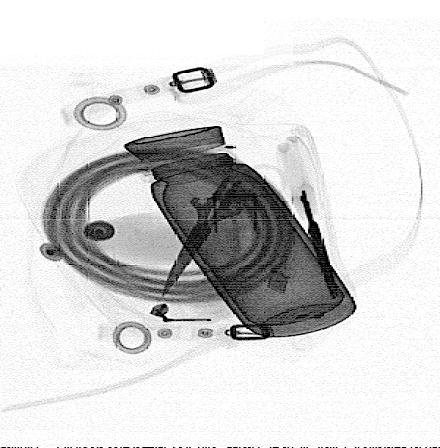Scissors: (160, 154, 286, 297), (279, 133, 341, 299)
